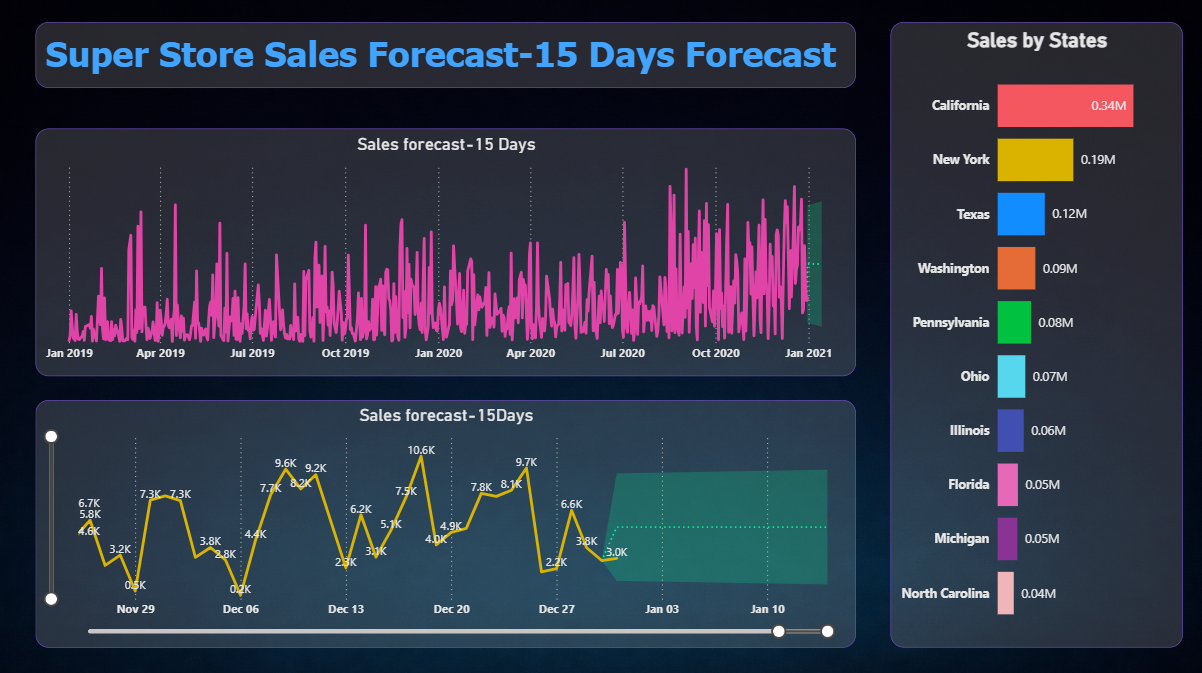

Layout of this report page (visuals, bound fields, positions):
{"tool":"powerbi","page":{"name":"Sales Forecast","canvas":[1280,720],"ordinal":1},"visuals":[{"type":"lineChart","title":"Sales forecast-15 Days","fields":{"Y":["Sum(Super market Sales.Sales)"],"Category":["Super market Sales.Order Date"]},"box":[39.8,138.4,870.1,262.5],"z":0},{"type":"lineChart","title":"Sales forecast-15Days","fields":{"Y":["Sum(Super market Sales.Sales)"],"Category":["Super market Sales.Order Date"]},"box":[39.8,426.3,870.1,262.5],"z":1000},{"type":"clusteredBarChart","title":"Sales by States","fields":{"Y":["Sum(Sheet1.Sales)"],"Category":["Super Store Sales.State"]},"box":[946.4,25.4,310.2,663.3],"z":2000},{"type":"textbox","box":[39.8,25.4,870.1,70],"z":3000}]}

Visuals, with their boxes in screenshot pixels (x1, y1, x2, y2), scaled from the page's 1280x720 canvas onto the 1202x673 screenshot:
"Sales forecast-15 Days" lineChart: [x1=37, y1=129, x2=854, y2=375]
"Sales forecast-15Days" lineChart: [x1=37, y1=398, x2=854, y2=644]
"Sales by States" clusteredBarChart: [x1=889, y1=24, x2=1180, y2=644]
textbox: [x1=37, y1=24, x2=854, y2=89]
